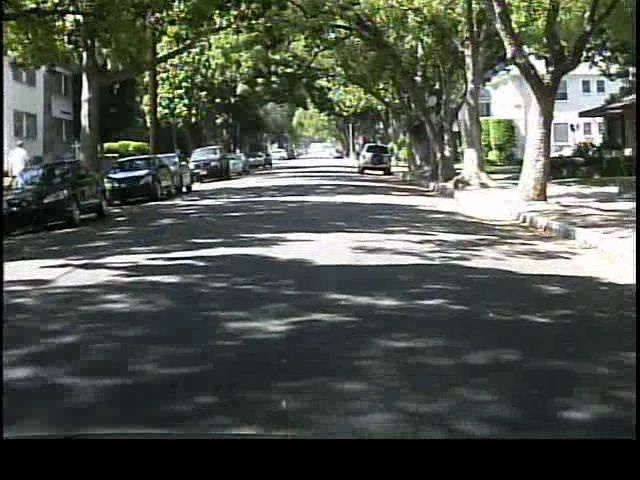person: (6, 138, 35, 206)
